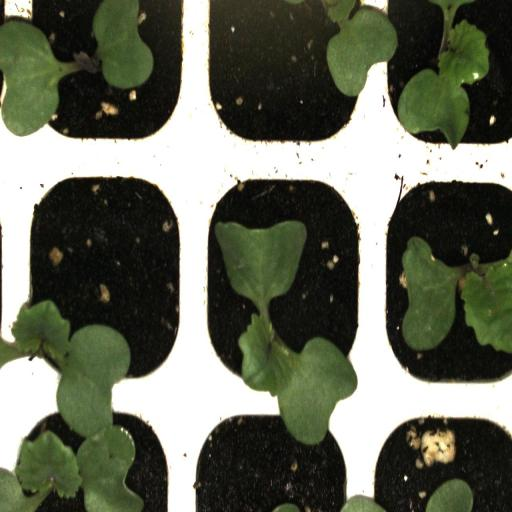seedling: (191, 157, 377, 408), (17, 162, 191, 389), (379, 156, 512, 405), (18, 1, 196, 171), (0, 394, 190, 512), (376, 2, 512, 164)
